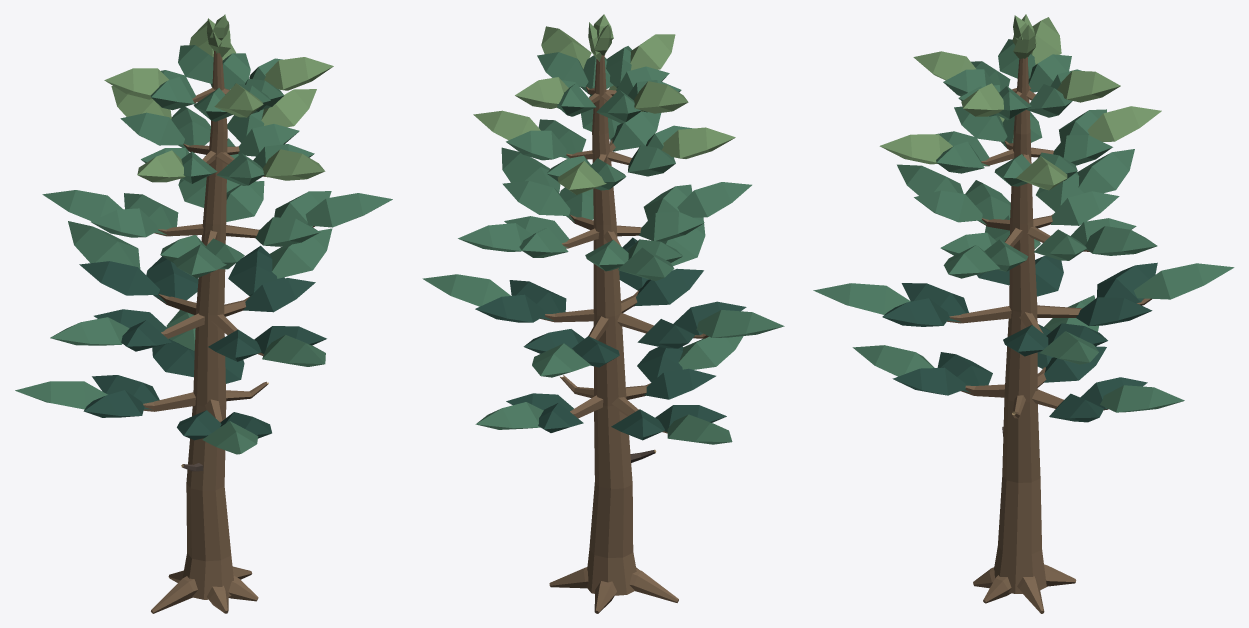
The model's file is conifer-tree.glb.
3 views of the same model, side by side, from view 1: azimuth 30°, elevation 25°; view 2: azimuth 150°, elevation 25°; view 3: azimuth 270°, elevation 25° (orthographic).
Visible parts, largest first — view 1: Conifer | foliage whorl 02, Conifer | tapered main axis, Conifer | foliage whorl 03, Conifer | foliage whorl 04, Conifer | foliage whorl 05, Conifer | foliage whorl 01, Conifer | lateral branch skeleton and old snags, Conifer | buttress roots, Conifer | upright leader shoots; view 2: Conifer | foliage whorl 02, Conifer | foliage whorl 03, Conifer | tapered main axis, Conifer | foliage whorl 04, Conifer | foliage whorl 01, Conifer | foliage whorl 05, Conifer | lateral branch skeleton and old snags, Conifer | buttress roots, Conifer | upright leader shoots; view 3: Conifer | foliage whorl 02, Conifer | foliage whorl 03, Conifer | tapered main axis, Conifer | foliage whorl 04, Conifer | foliage whorl 05, Conifer | foliage whorl 01, Conifer | lateral branch skeleton and old snags, Conifer | buttress roots, Conifer | upright leader shoots.
Part boxes in pixels (x1=…): Conifer | foliage whorl 02: x1=50, y1=221, x2=332, y2=366; Conifer | tapered main axis: x1=182, y1=51, x2=233, y2=599; Conifer | foliage whorl 03: x1=42, y1=138, x2=392, y2=278; Conifer | foliage whorl 04: x1=111, y1=86, x2=325, y2=185; Conifer | foliage whorl 05: x1=104, y1=21, x2=333, y2=121; Conifer | foliage whorl 01: x1=15, y1=310, x2=271, y2=454; Conifer | lateral branch skeleton and old snags: x1=143, y1=87, x2=314, y2=471; Conifer | buttress roots: x1=151, y1=566, x2=258, y2=613; Conifer | upright leader shoots: x1=207, y1=14, x2=230, y2=57; Conifer | foliage whorl 02: x1=422, y1=217, x2=784, y2=377; Conifer | foliage whorl 03: x1=458, y1=147, x2=751, y2=280; Conifer | tapered main axis: x1=586, y1=55, x2=636, y2=595; Conifer | foliage whorl 04: x1=473, y1=85, x2=735, y2=194; Conifer | foliage whorl 01: x1=475, y1=336, x2=743, y2=444; Conifer | foliage whorl 05: x1=515, y1=26, x2=688, y2=123; Conifer | lateral branch skeleton and old snags: x1=540, y1=86, x2=708, y2=462; Conifer | buttress roots: x1=549, y1=567, x2=678, y2=613; Conifer | upright leader shoots: x1=588, y1=14, x2=613, y2=61; Conifer | foliage whorl 02: x1=813, y1=213, x2=1234, y2=364; Conifer | foliage whorl 03: x1=897, y1=149, x2=1157, y2=278; Conifer | tapered main axis: x1=994, y1=57, x2=1046, y2=593; Conifer | foliage whorl 04: x1=879, y1=96, x2=1161, y2=190; Conifer | foliage whorl 05: x1=913, y1=17, x2=1120, y2=120; Conifer | foliage whorl 01: x1=852, y1=295, x2=1184, y2=422; Conifer | lateral branch skeleton and old snags: x1=947, y1=85, x2=1151, y2=436; Conifer | buttress roots: x1=973, y1=564, x2=1076, y2=613; Conifer | upright leader shoots: x1=1012, y1=14, x2=1036, y2=59.
Size of the model in its own units: 4.17 by 7.1 by 4.69.
